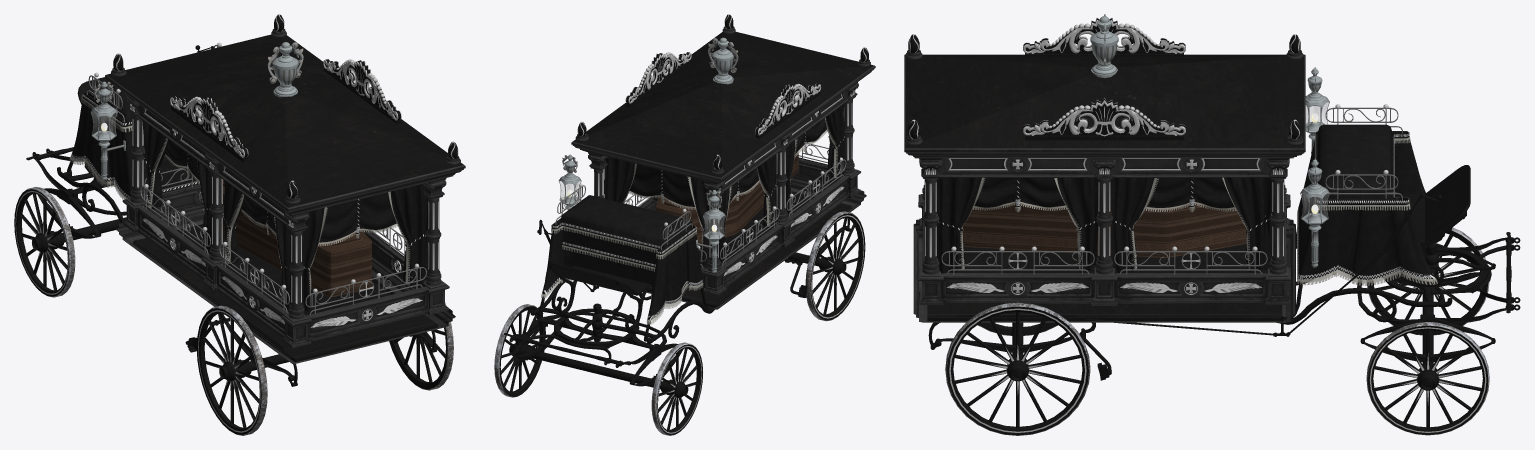
File: funeral_carriage.glb
The picture shows the model from 3 angles, left to right: view 1: azimuth 30°, elevation 25°; view 2: azimuth 150°, elevation 25°; view 3: azimuth 270°, elevation 25°; orthographic projection. The views are drawn at different scales.
Parts seen in each view (by area): view 1: Plane_2, Cube.030_87, Cube.011_15, Plane.022_64, Plane.028_71, Cube.031_88, Cylinder.001_30, Plane.017_24, Cylinder_29, Plane.012_18, Cylinder.006_41, Plane.018_25 (+19 smaller); view 2: Plane_2, Plane.022_64, Cube.030_87, Plane.027_69, Cylinder.006_41, Plane.028_71, Cube.011_15, Plane.016_23, Icosphere_74, Cylinder_29, Cylinder.001_30, Cube.031_88 (+29 smaller); view 3: Plane_2, Plane.022_64, Cube.030_87, Cube.011_15, Plane.028_71, Cube.029_4, Plane.027_69, Plane.005_21, Cylinder.006_41, Cylinder.003_35, Cylinder.001_30, Cube.031_88 (+20 smaller).
Part boxes in pixels (left/top/right/bottom): Plane_2: left=105, top=34, right=465, bottom=364; Cube.030_87: left=122, top=183, right=449, bottom=348; Cube.011_15: left=223, top=179, right=371, bottom=296; Plane.022_64: left=69, top=92, right=199, bottom=199; Plane.028_71: left=170, top=59, right=401, bottom=162; Cube.031_88: left=111, top=28, right=460, bottom=319; Cylinder.001_30: left=202, top=313, right=445, bottom=428; Plane.017_24: left=318, top=192, right=402, bottom=246; Cylinder_29: left=196, top=305, right=267, bottom=435; Plane.012_18: left=388, top=184, right=426, bottom=285; Cylinder.006_41: left=19, top=193, right=126, bottom=290; Plane.018_25: left=140, top=184, right=405, bottom=312; Plane_2: left=571, top=31, right=875, bottom=309; Plane.022_64: left=541, top=219, right=703, bottom=324; Cube.030_87: left=639, top=157, right=860, bottom=295; Plane.027_69: left=560, top=195, right=692, bottom=246; Cylinder.006_41: left=501, top=310, right=698, bottom=430; Plane.028_71: left=625, top=52, right=821, bottom=138; Cube.011_15: left=656, top=152, right=798, bottom=245; Plane.016_23: left=625, top=164, right=695, bottom=209; Icosphere_74: left=558, top=154, right=725, bottom=273; Cylinder_29: left=805, top=211, right=865, bottom=321; Cylinder.001_30: left=787, top=218, right=859, bottom=314; Cube.031_88: left=575, top=26, right=870, bottom=271; Plane_2: left=904, top=54, right=1305, bottom=322; Plane.022_64: left=1297, top=131, right=1437, bottom=285; Cube.030_87: left=918, top=194, right=1290, bottom=305; Cube.011_15: left=962, top=202, right=1246, bottom=257; Plane.028_71: left=1023, top=18, right=1185, bottom=140; Cube.029_4: left=937, top=158, right=1271, bottom=177; Plane.027_69: left=1317, top=124, right=1392, bottom=198; Plane.005_21: left=973, top=177, right=1235, bottom=212; Cylinder.006_41: left=1374, top=235, right=1481, bottom=428; Cylinder.003_35: left=945, top=302, right=1090, bottom=435; Cylinder.001_30: left=954, top=311, right=1081, bottom=428; Cube.031_88: left=905, top=49, right=1303, bottom=274.
Bounding box in the file's own units: 2.68 × 4.18 × 6.33.
Materials: 17 (14 with a texture image).
